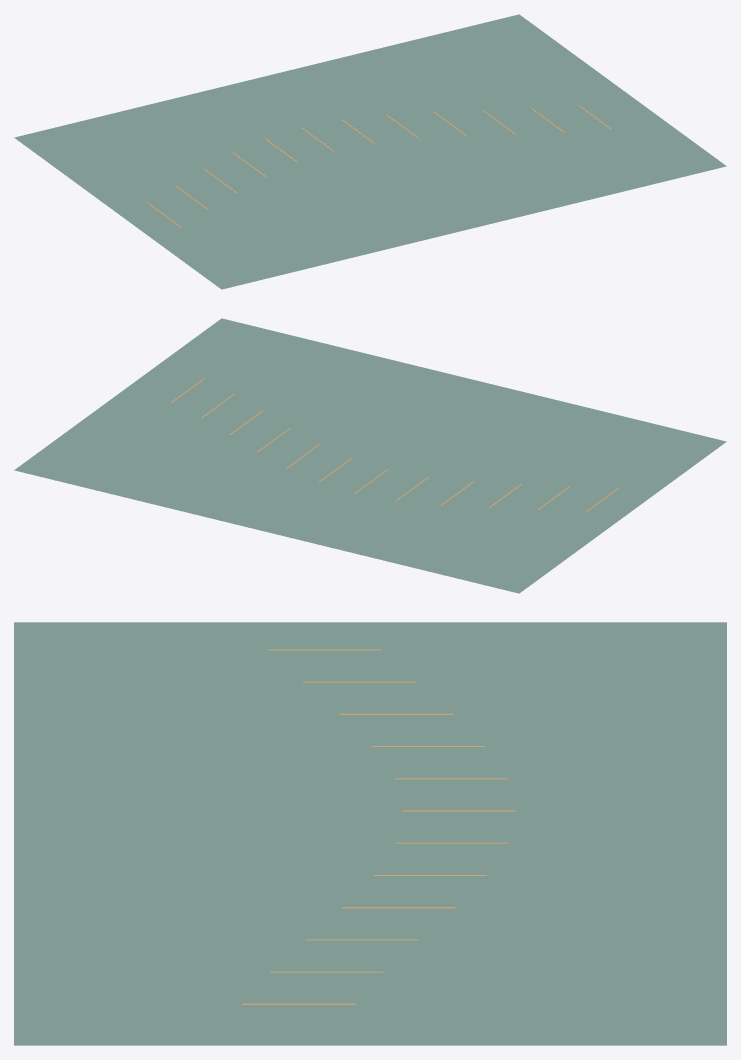
Rendered from 253_L119_L4_LayerReference.glb.
3 renders of one model, top to bottom at view 1: azimuth 30°, elevation 25°; view 2: azimuth 150°, elevation 25°; view 3: azimuth 270°, elevation 25°, orthographic. The views are drawn at different scales.
Visible parts, largest first — view 1: 0000__PSMAT__dielectric; view 2: 0000__PSMAT__dielectric; view 3: 0000__PSMAT__dielectric.
Boxes of the visible parts, x1=… form: 0000__PSMAT__dielectric: x1=14, y1=14, x2=726, y2=289; 0000__PSMAT__dielectric: x1=14, y1=318, x2=726, y2=593; 0000__PSMAT__dielectric: x1=14, y1=622, x2=726, y2=1045.
Bounding box in the file's own units: 0.486 × 0.000196 × 0.346.
